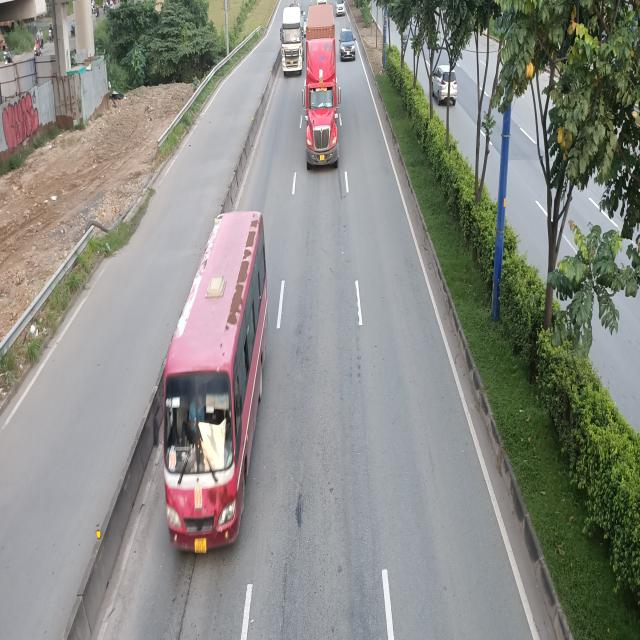car: (339, 28, 358, 61)
coach: (153, 215, 265, 554)
container: (302, 4, 340, 168), (279, 5, 304, 76)
